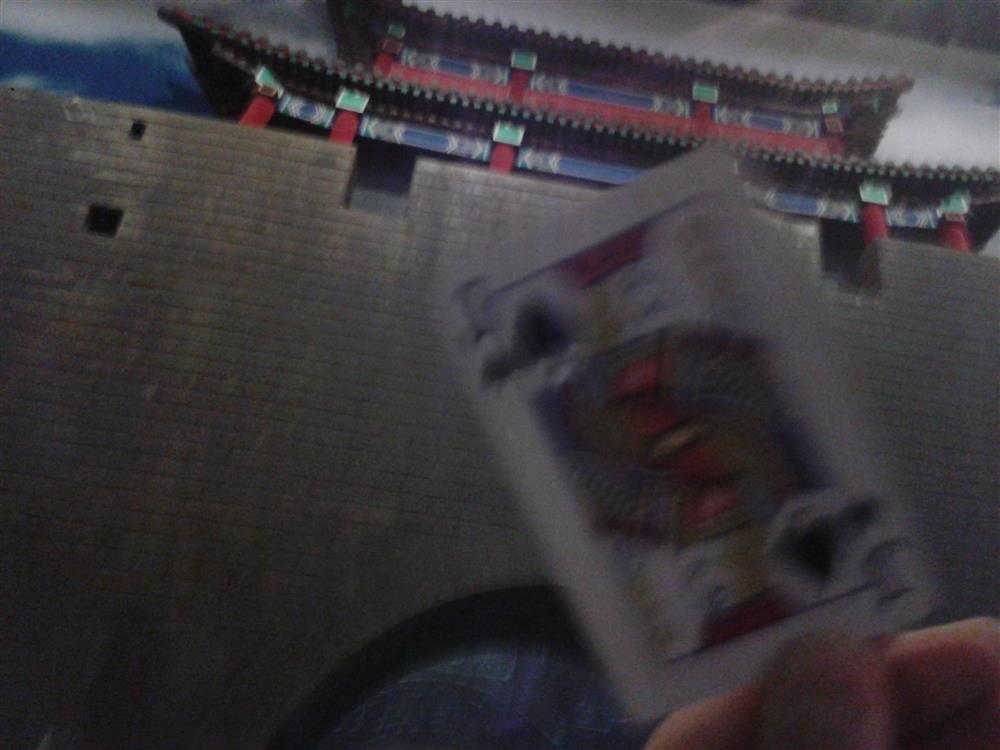poker: (429, 157, 932, 707)
